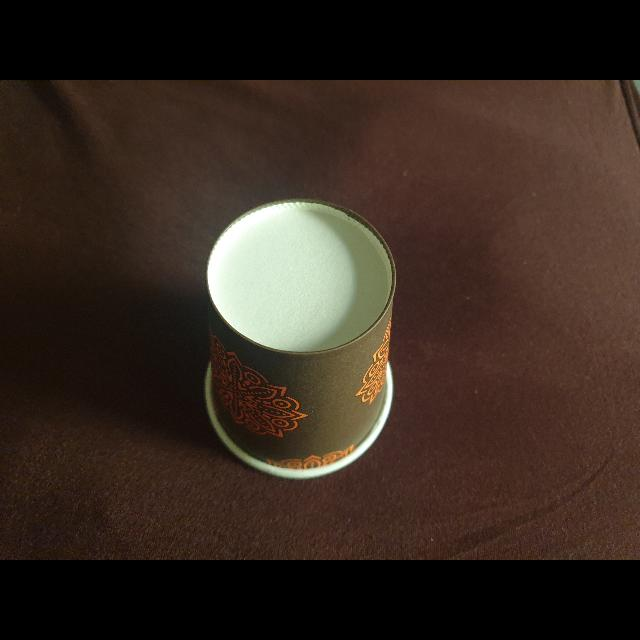trash: (192, 188, 406, 480)
